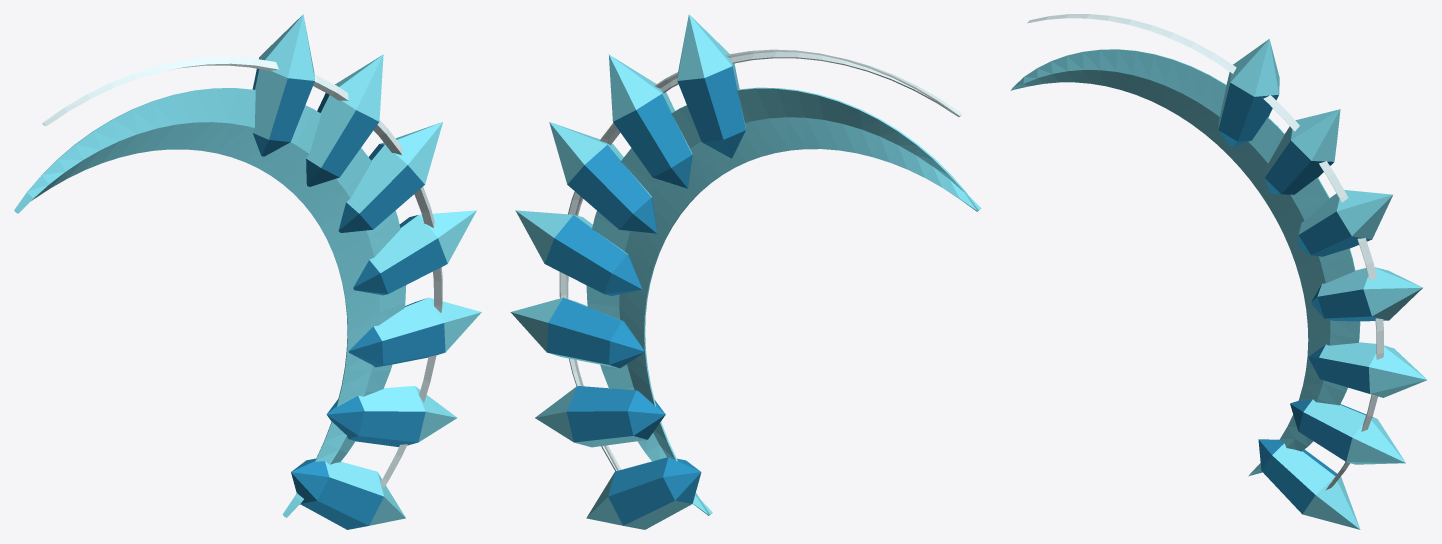
The model's file is VFX_44_GeloAlaTagliente.fbx.
3 renders of one model, left to right at view 1: azimuth 30°, elevation 25°; view 2: azimuth 150°, elevation 25°; view 3: azimuth 330°, elevation 25°, orthographic. The views are drawn at different scales.
Parts seen in each view (by area): view 1: VFX_44_GeloAlaTagliente; view 2: VFX_44_GeloAlaTagliente; view 3: VFX_44_GeloAlaTagliente.
Part boxes in pixels (x1=…): VFX_44_GeloAlaTagliente: x1=14, y1=14, x2=481, y2=529; VFX_44_GeloAlaTagliente: x1=510, y1=14, x2=981, y2=529; VFX_44_GeloAlaTagliente: x1=1010, y1=14, x2=1427, y2=529.
Bounding box in the file's own units: 285 × 308 × 30.21.
1 material, 1 textured.
